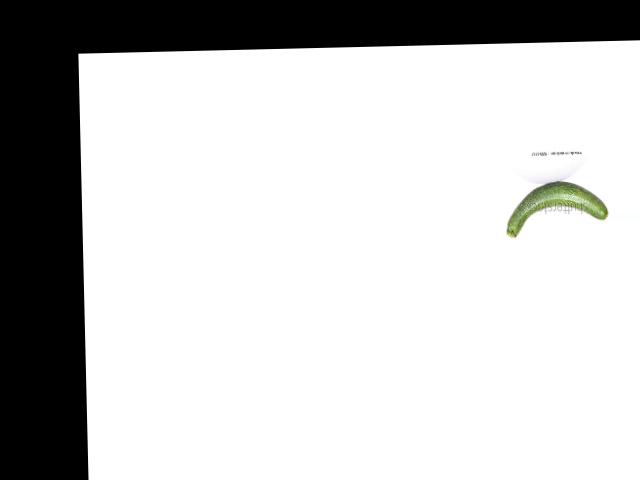cucumber: (505, 180, 608, 238)
